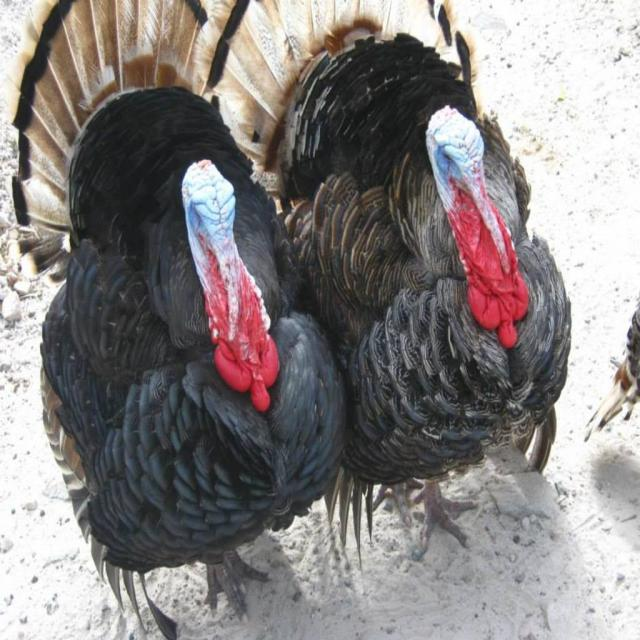Chicken: (0, 0, 346, 640), (212, 0, 573, 568)
